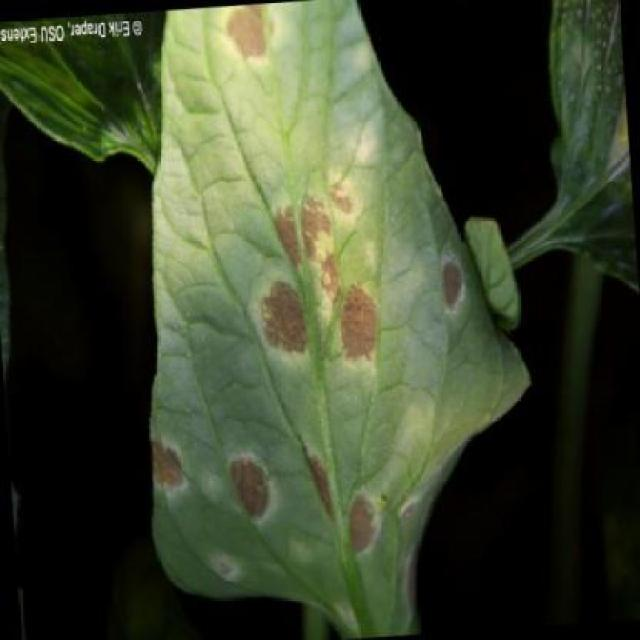Leaf Mold: (112, 0, 541, 632)
